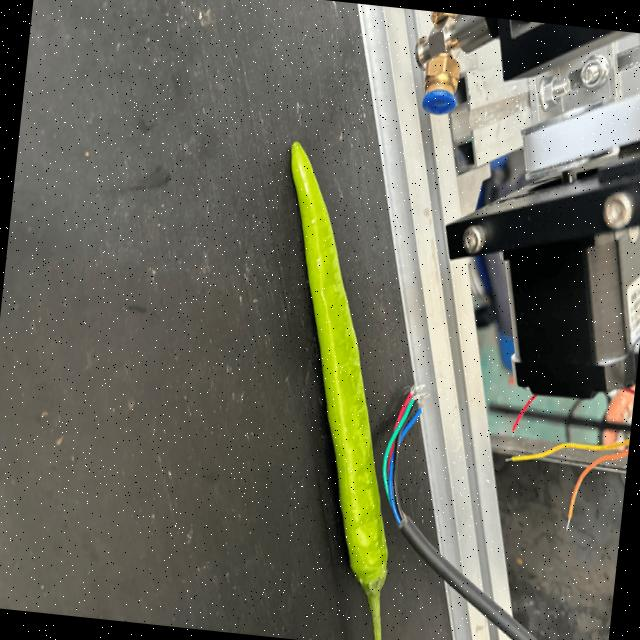chili: (287, 135, 388, 593)
